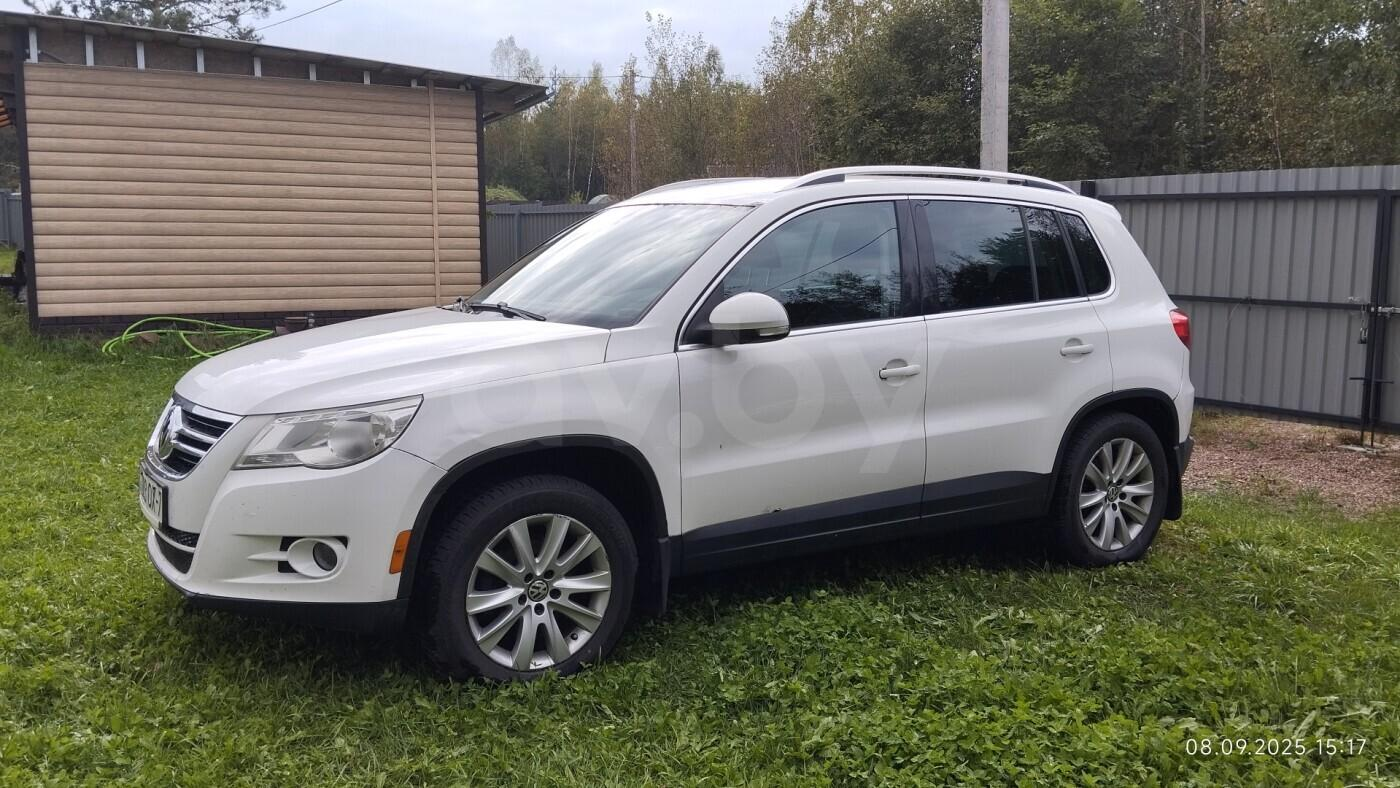Tiguan_2007-2011: (134, 167, 1202, 688)
